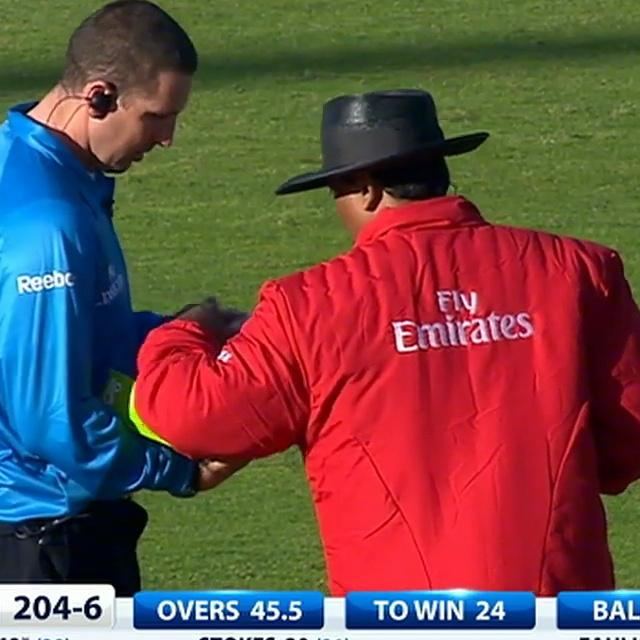umpire: (0, 45, 640, 597)
